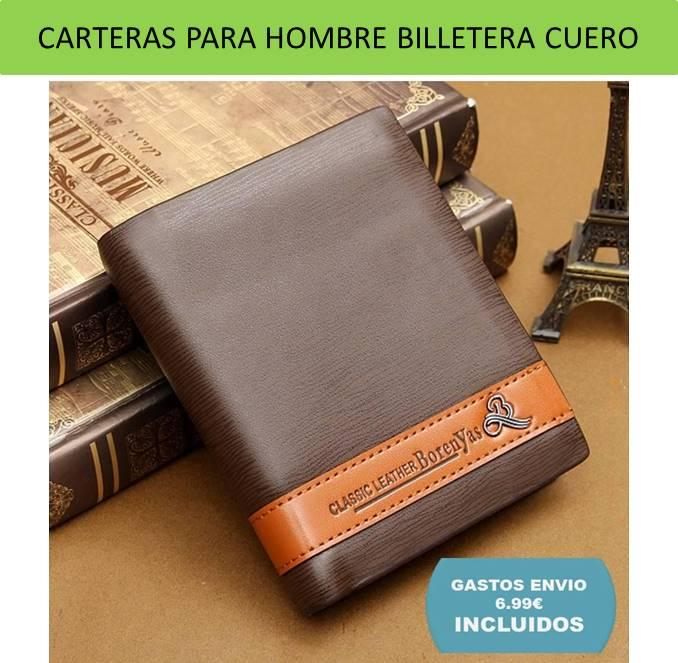monedero: (96, 105, 593, 620)
